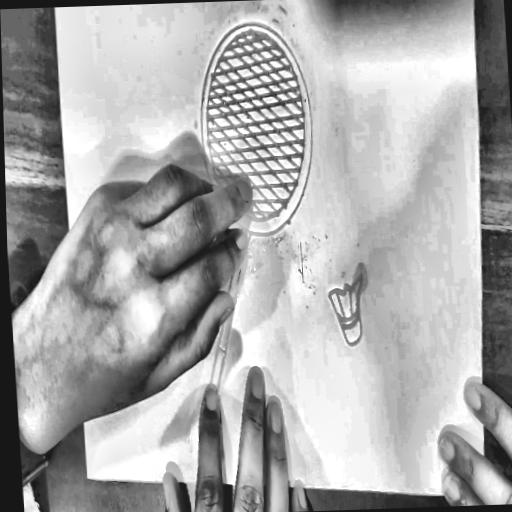badminton: (157, 11, 386, 490)
bottom_left: (84, 471, 91, 482)
bottom_right: (481, 488, 489, 501)
